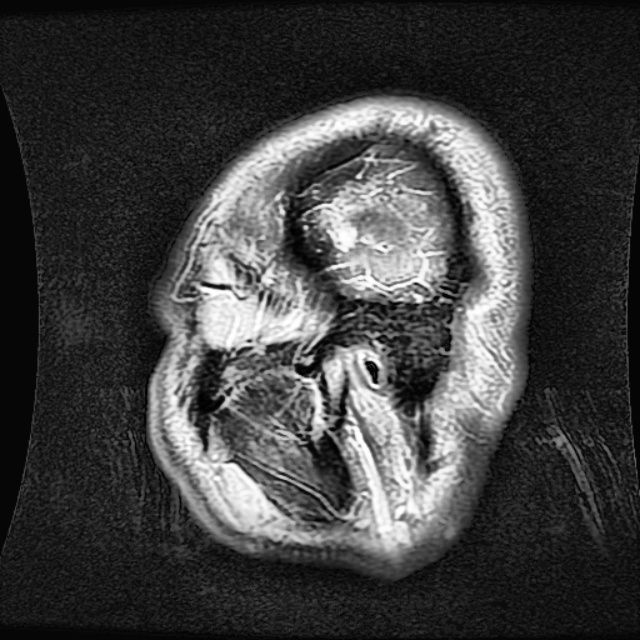Meningioma: (332, 227, 358, 254)
